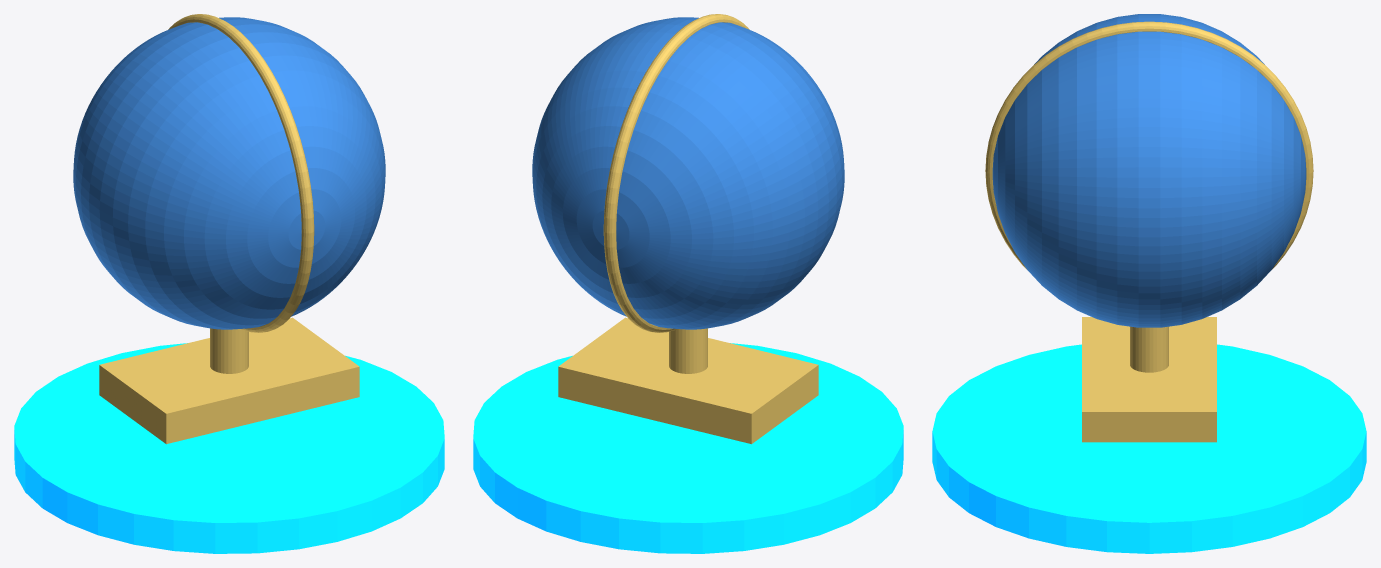
The model's file is news_globe.glb.
3 renders of one model, left to right at view 1: azimuth 30°, elevation 25°; view 2: azimuth 150°, elevation 25°; view 3: azimuth 270°, elevation 25°, orthographic.
Visible parts, largest first — view 1: 09_04_Popular_News_Globe_part_01, 09_04_Popular_News_Globe_ROOT_base, 09_04_Popular_News_Globe_part_04, 09_04_Popular_News_Globe_part_02, 09_04_Popular_News_Globe_part_03; view 2: 09_04_Popular_News_Globe_part_01, 09_04_Popular_News_Globe_ROOT_base, 09_04_Popular_News_Globe_part_04, 09_04_Popular_News_Globe_part_02, 09_04_Popular_News_Globe_part_03; view 3: 09_04_Popular_News_Globe_part_01, 09_04_Popular_News_Globe_ROOT_base, 09_04_Popular_News_Globe_part_04, 09_04_Popular_News_Globe_part_02, 09_04_Popular_News_Globe_part_03.
Part boxes in pixels (x1,y1,x2,y2): 09_04_Popular_News_Globe_part_01: (73,17,385,329); 09_04_Popular_News_Globe_ROOT_base: (14,343,444,553); 09_04_Popular_News_Globe_part_04: (99,317,359,444); 09_04_Popular_News_Globe_part_02: (168,14,314,332); 09_04_Popular_News_Globe_part_03: (210,328,248,373); 09_04_Popular_News_Globe_part_01: (532,17,844,329); 09_04_Popular_News_Globe_ROOT_base: (473,343,903,553); 09_04_Popular_News_Globe_part_04: (558,317,818,444); 09_04_Popular_News_Globe_part_02: (603,14,749,332); 09_04_Popular_News_Globe_part_03: (669,328,707,373); 09_04_Popular_News_Globe_part_01: (992,14,1306,327); 09_04_Popular_News_Globe_ROOT_base: (932,344,1366,553); 09_04_Popular_News_Globe_part_04: (1082,317,1216,442); 09_04_Popular_News_Globe_part_02: (985,21,1313,269); 09_04_Popular_News_Globe_part_03: (1130,326,1168,372).
Bounding box in the file's own units: 0.76 × 0.85 × 0.76.
